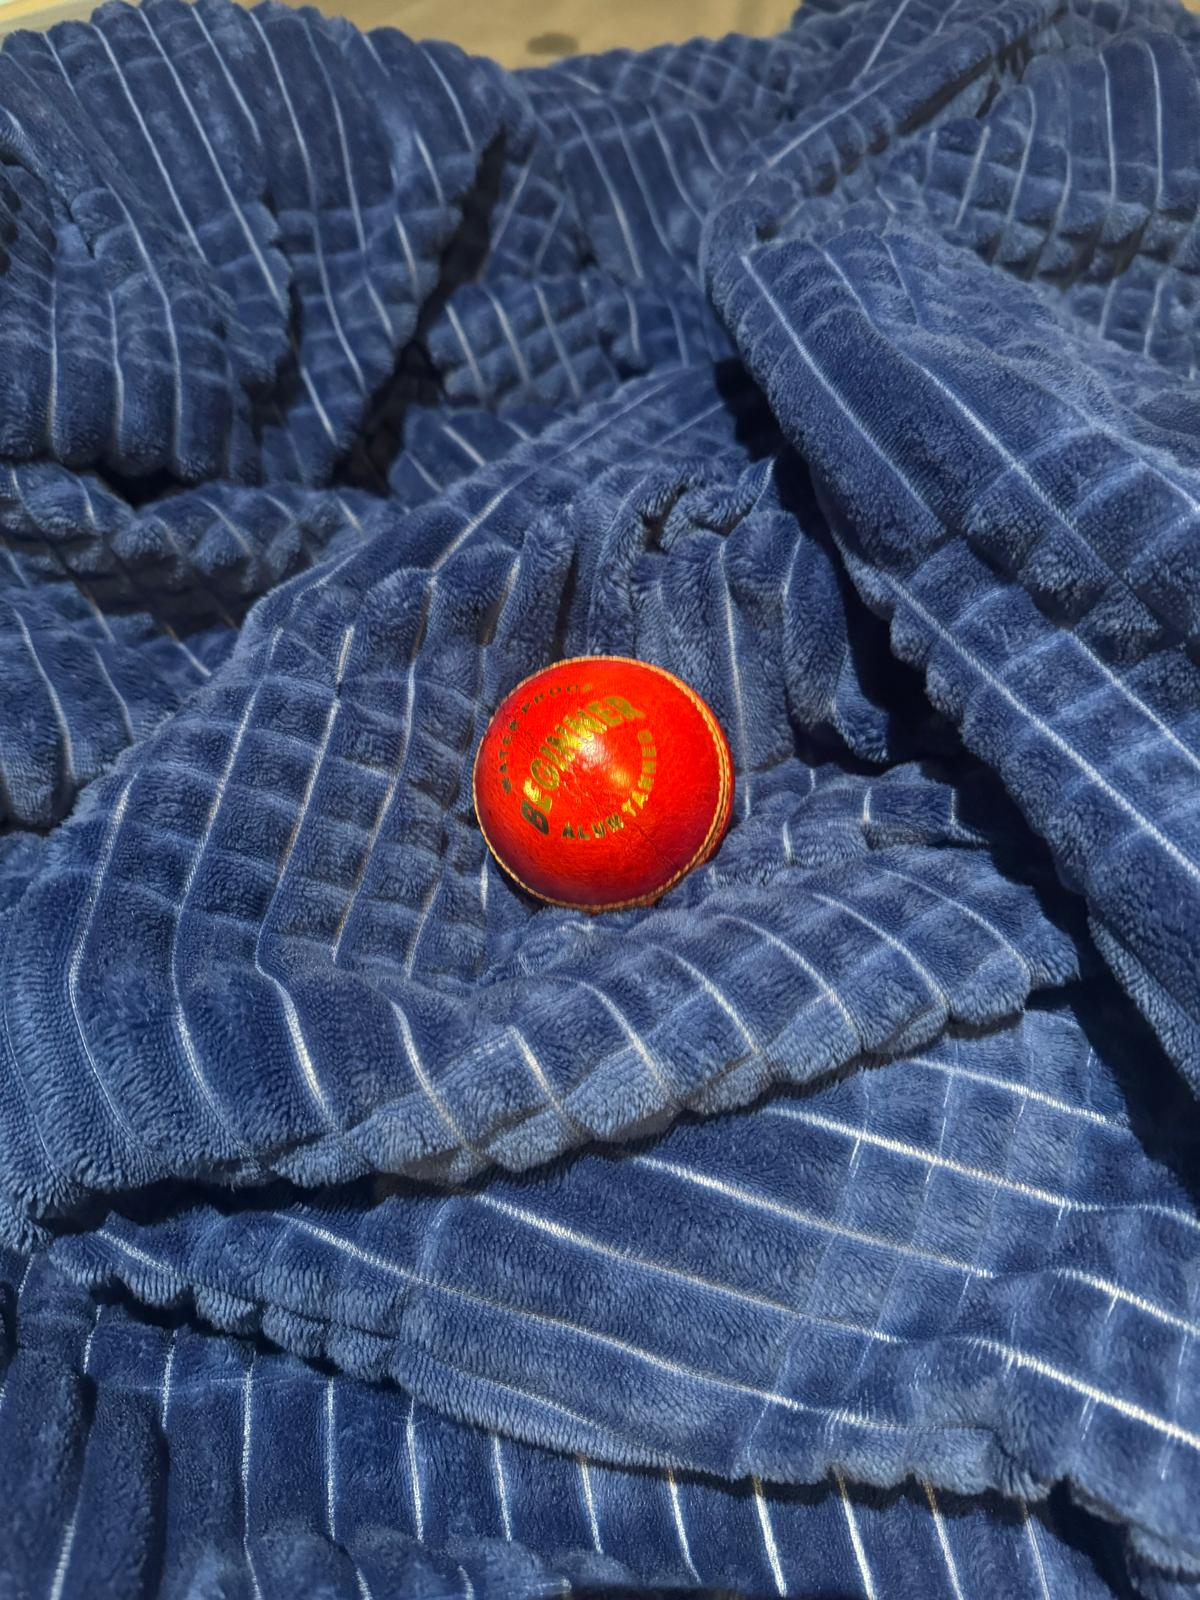Red_Ball: (464, 645, 745, 917)
